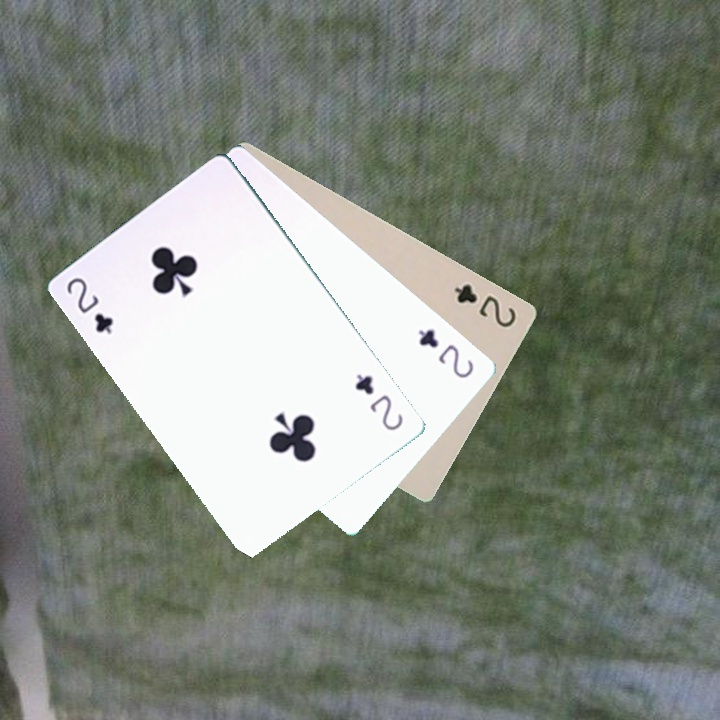2c: (350, 370, 406, 434), (414, 325, 477, 381), (450, 280, 519, 331), (62, 273, 116, 337)
